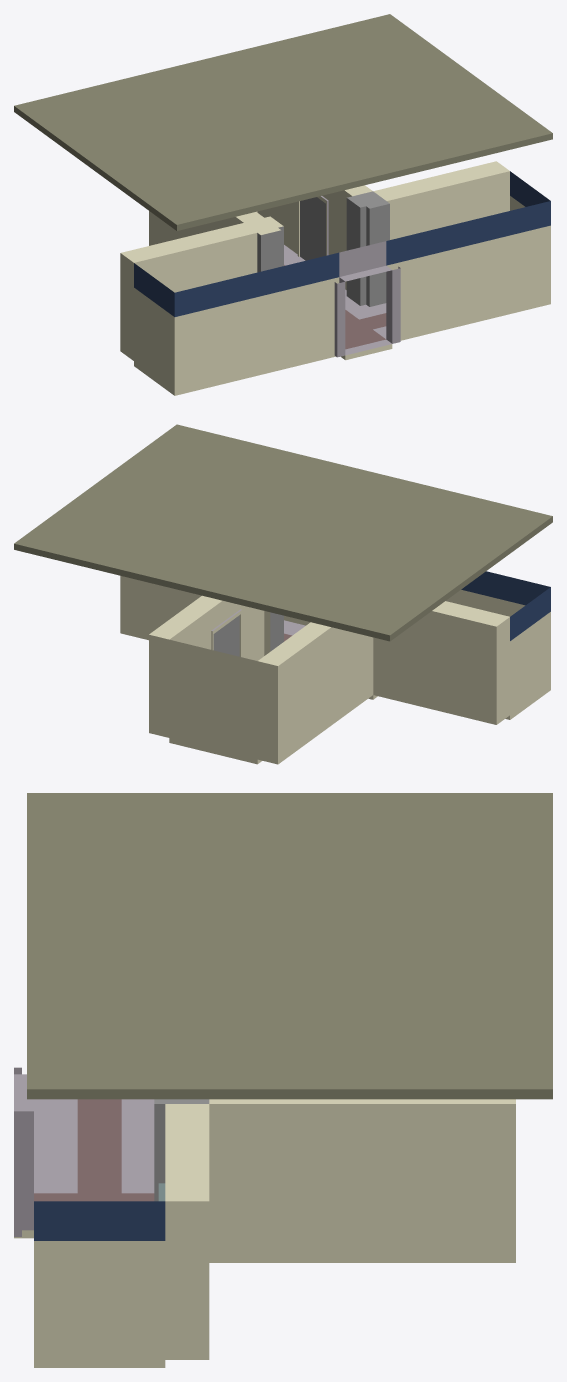
File: businessOffice.fbx
3 renders of one model, top to bottom at view 1: azimuth 30°, elevation 25°; view 2: azimuth 150°, elevation 25°; view 3: azimuth 270°, elevation 25°, orthographic. The views are drawn at different scales.
Visible parts, largest first — view 1: bussinessOffice, officeCeiling; view 2: officeCeiling, bussinessOffice; view 3: officeCeiling, bussinessOffice.
Boxes of the visible parts, x1,y1,x2,y2 form: bussinessOffice: [120, 161, 550, 395]; officeCeiling: [14, 14, 552, 230]; officeCeiling: [14, 424, 552, 641]; bussinessOffice: [120, 571, 550, 764]; officeCeiling: [27, 793, 552, 1099]; bussinessOffice: [14, 1067, 515, 1367].
Size of the model in its own units: 1600 by 701 by 1230.
